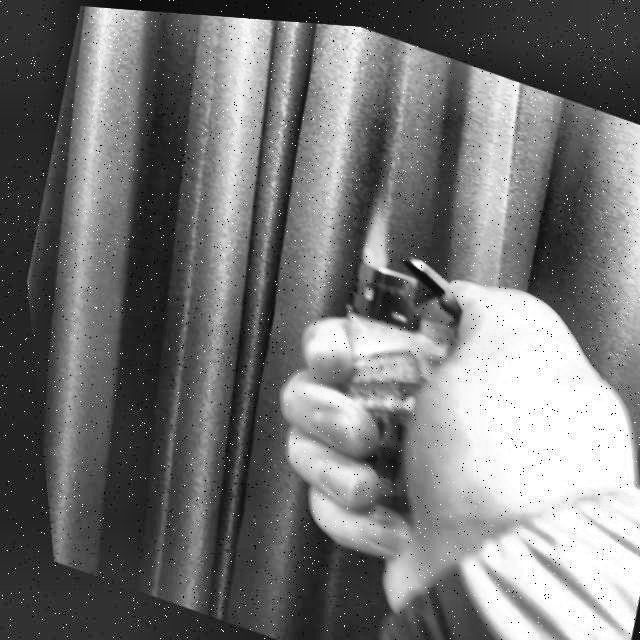Fire: (341, 181, 402, 266)
